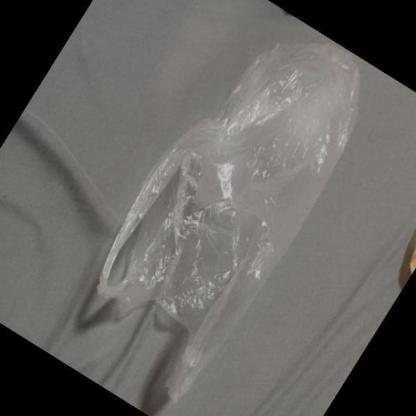Plastic Bag: (93, 43, 361, 405)
